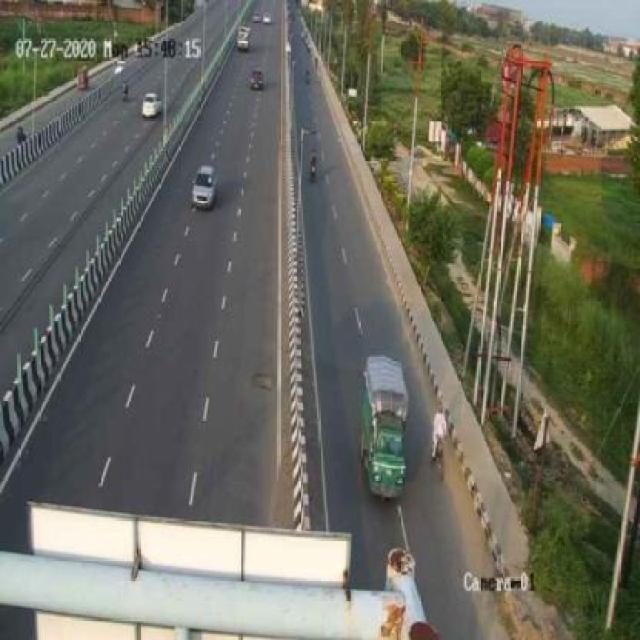car: (348, 346, 418, 503), (192, 168, 217, 212), (140, 86, 165, 120), (243, 64, 268, 96)
